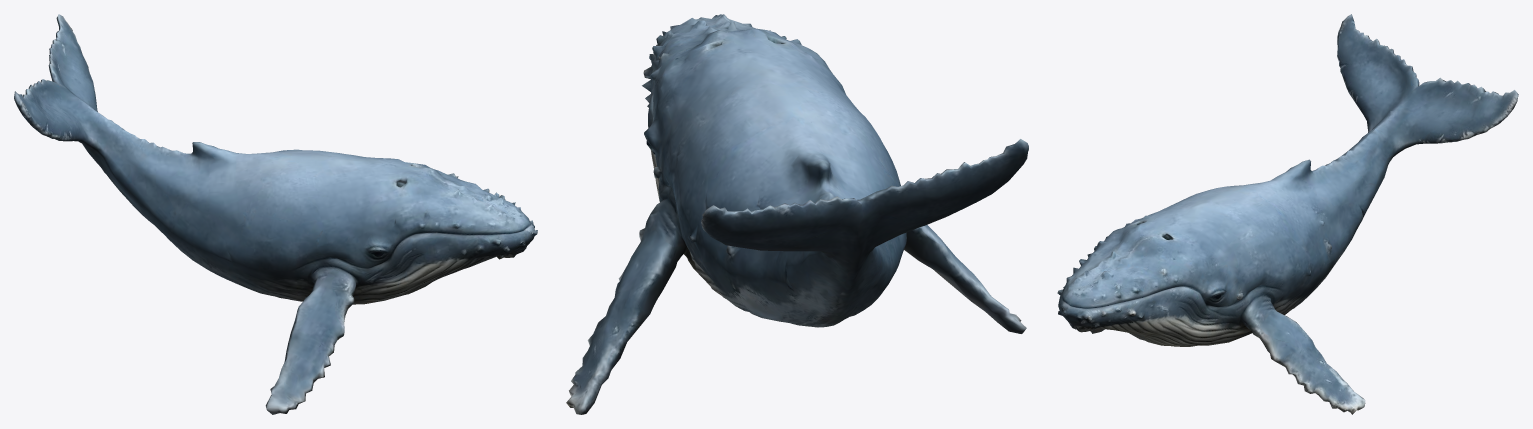
The model's file is whale_3d.glb.
The picture shows the model from 3 angles, left to right: view 1: azimuth 30°, elevation 25°; view 2: azimuth 150°, elevation 25°; view 3: azimuth 270°, elevation 25°; orthographic projection. The views are drawn at different scales.
Visible parts, largest first — view 1: tripo_node_d7c0a365-2d13-4866-b847-5e79e62109ad; view 2: tripo_node_d7c0a365-2d13-4866-b847-5e79e62109ad; view 3: tripo_node_d7c0a365-2d13-4866-b847-5e79e62109ad.
Part boxes in pixels (<box>): tripo_node_d7c0a365-2d13-4866-b847-5e79e62109ad: <box>14,14,537,414</box>; tripo_node_d7c0a365-2d13-4866-b847-5e79e62109ad: <box>566,14,1028,414</box>; tripo_node_d7c0a365-2d13-4866-b847-5e79e62109ad: <box>1057,14,1518,414</box>.
Size of the model in its own units: 0.9396 by 0.6073 by 1.
Materials: 1 (1 with a texture image).
